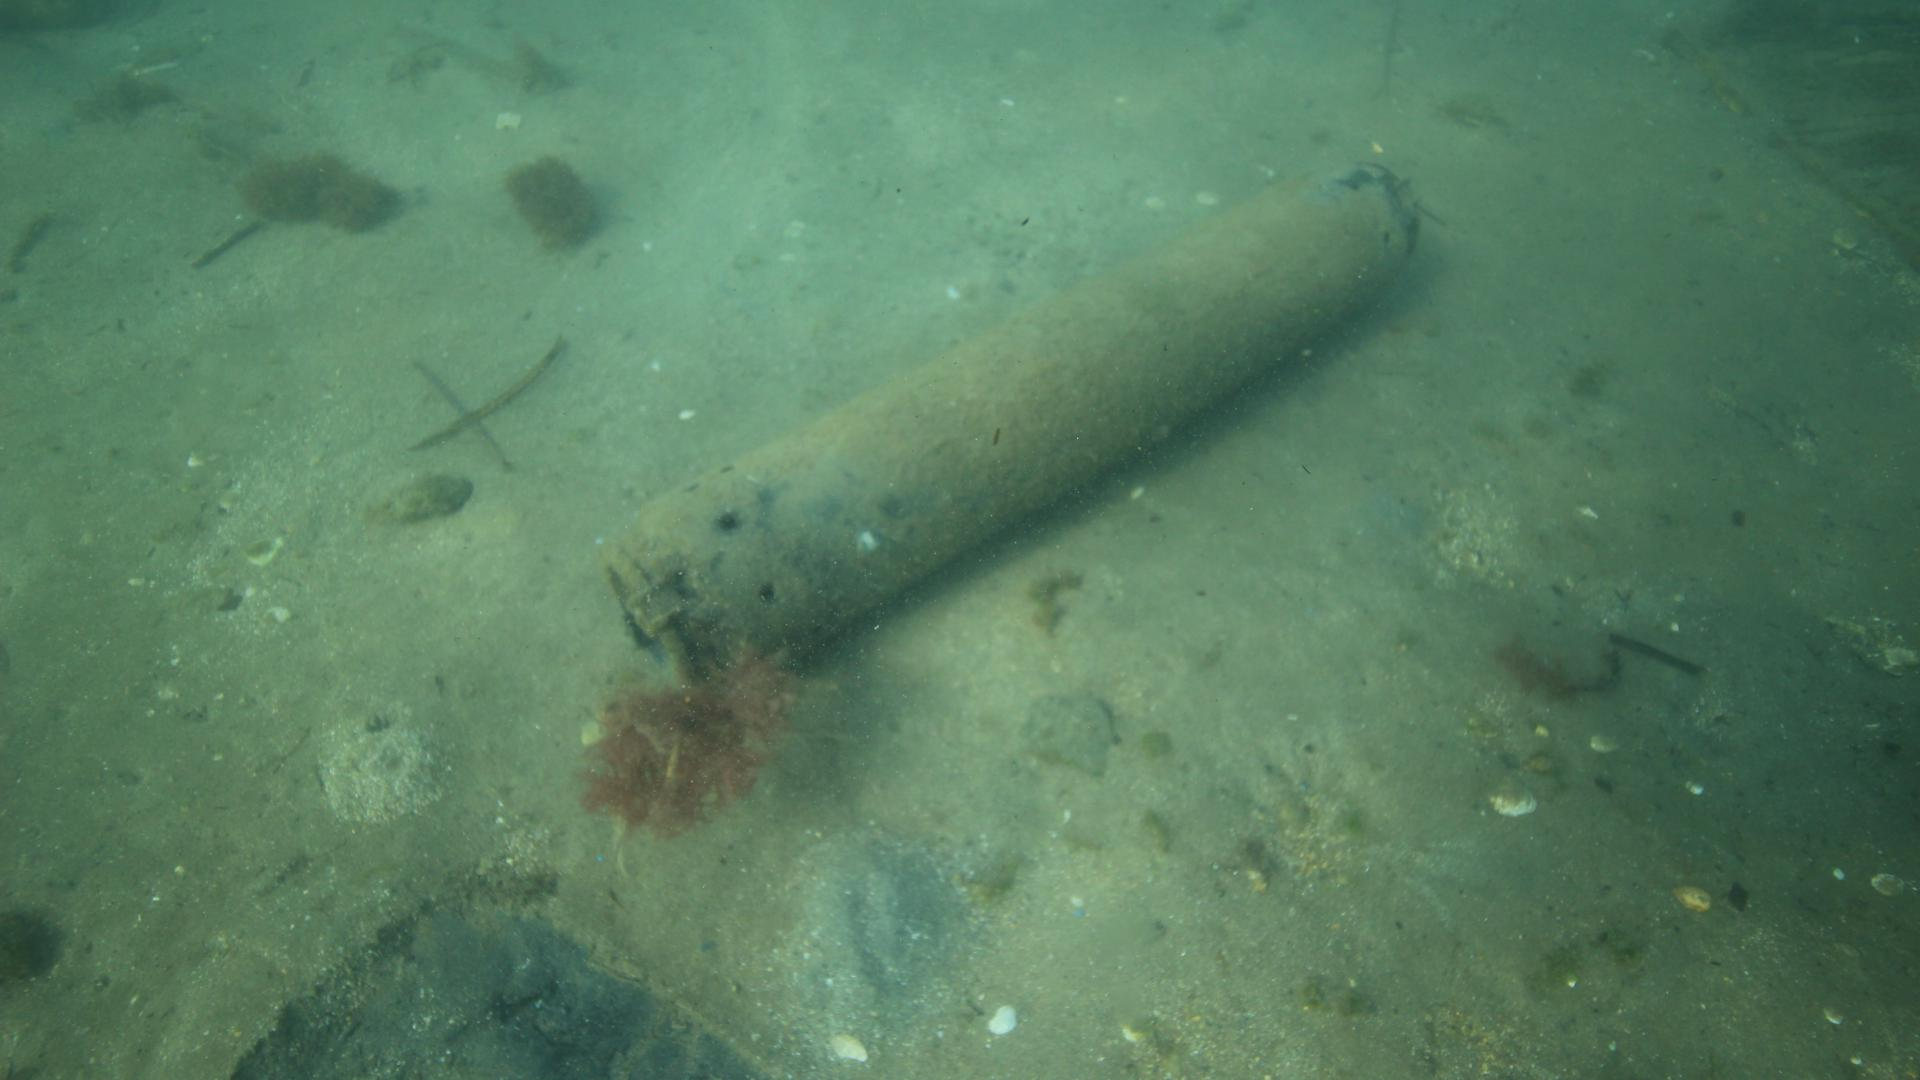eel fish trap: (599, 152, 1423, 673)
